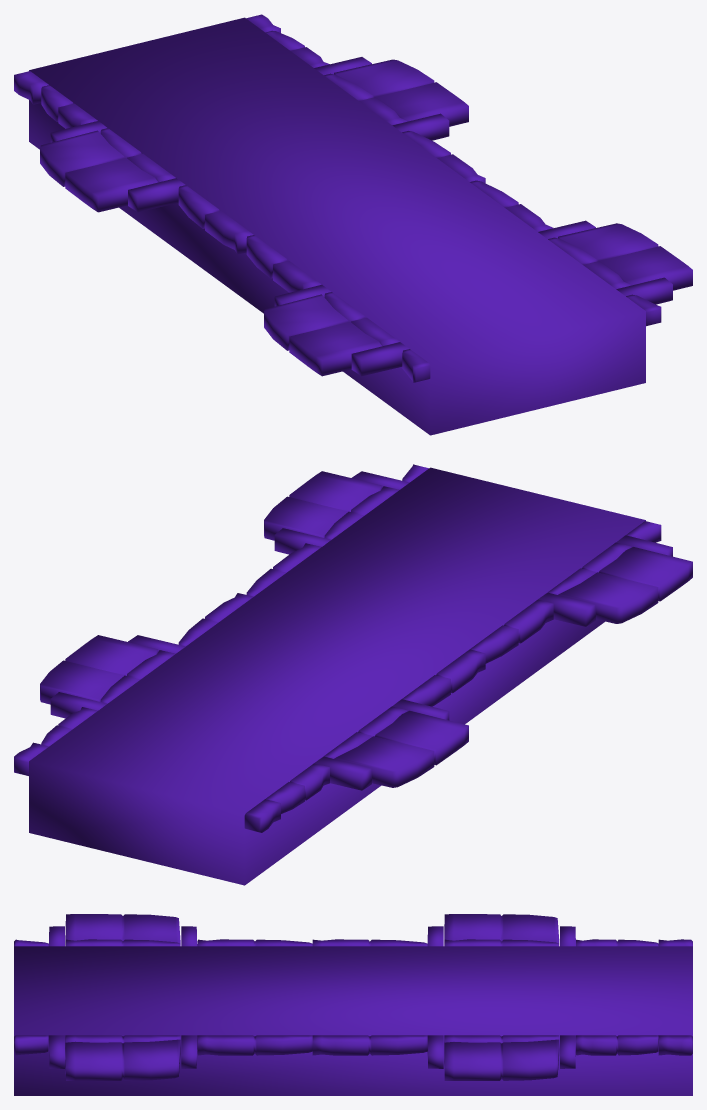
The model's file is N Block 1.obj.
3 renders of one model, top to bottom at view 1: azimuth 30°, elevation 25°; view 2: azimuth 150°, elevation 25°; view 3: azimuth 270°, elevation 25°, orthographic. The views are drawn at different scales.
Visible parts, largest first — view 1: Plane002; view 2: Plane002; view 3: Plane002.
Boxes of the visible parts, x1,y1,x2,y2 form: Plane002: (14, 14, 692, 435); Plane002: (14, 464, 692, 885); Plane002: (14, 914, 692, 1095).
Bounding box in the file's own units: 16788 × 3087 × 31364.
